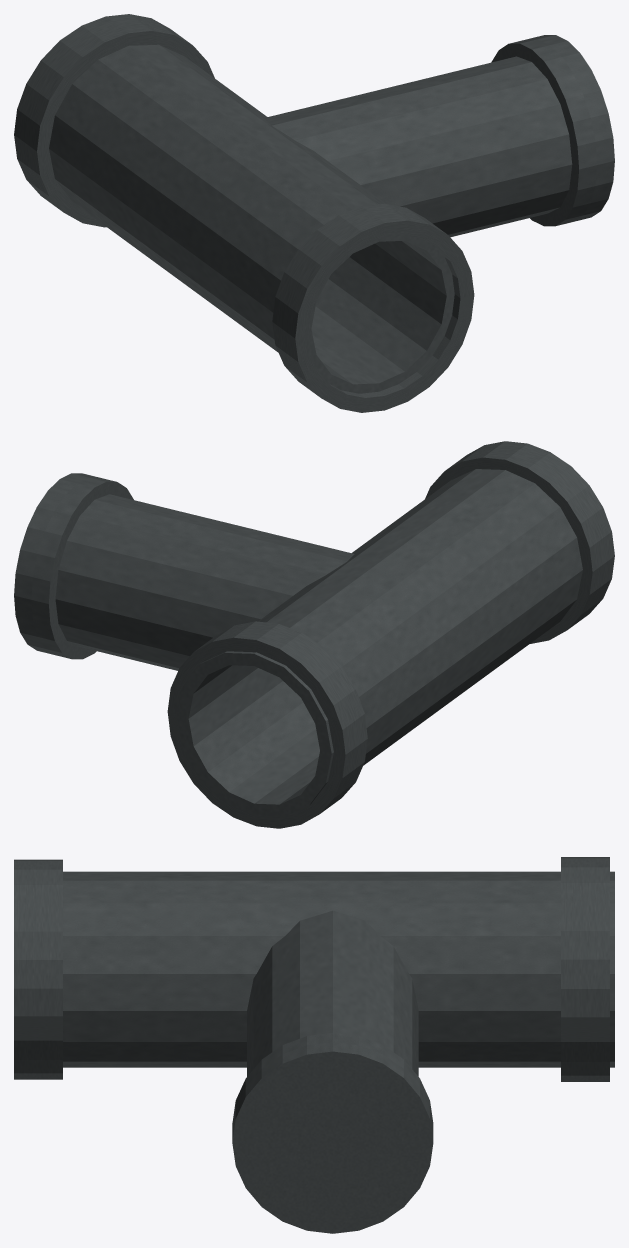
Rendered from Overflow_Tee_75mm.glb.
3 renders of one model, top to bottom at view 1: azimuth 30°, elevation 25°; view 2: azimuth 150°, elevation 25°; view 3: azimuth 270°, elevation 25°, orthographic. The views are drawn at different scales.
Parts seen in each view (by area): view 1: Main_Vertical_Tee, Lateral_Overflow_Branch, Upper_Tee_Collar, Lower_Tee_Collar, Overflow_Hose_Retaining_Bead; view 2: Main_Vertical_Tee, Lateral_Overflow_Branch, Lower_Tee_Collar, Upper_Tee_Collar, Overflow_Hose_Retaining_Bead; view 3: Main_Vertical_Tee, Overflow_Hose_Retaining_Bead, Lateral_Overflow_Branch, Lower_Tee_Collar, Upper_Tee_Collar.
Part boxes in pixels (x1,y1,x2,y2): Main_Vertical_Tee: (49,44,454,393); Lateral_Overflow_Branch: (264,56,572,237); Upper_Tee_Collar: (272,203,474,412); Lower_Tee_Collar: (14,14,214,227); Overflow_Hose_Retaining_Bead: (491,35,614,226); Main_Vertical_Tee: (177,469,582,816); Lateral_Overflow_Branch: (55,494,354,670); Lower_Tee_Collar: (167,621,367,828); Upper_Tee_Collar: (425,441,614,643); Overflow_Hose_Retaining_Bead: (14,473,133,659); Main_Vertical_Tee: (63,871,614,1067); Overflow_Hose_Retaining_Bead: (232,1033,433,1233); Lateral_Overflow_Branch: (247,910,418,1076); Lower_Tee_Collar: (561,857,609,1081); Upper_Tee_Collar: (14,859,62,1079).
Bounding box in the file's own units: 0.213 × 0.092 × 0.245.
Materials: 1 (1 with a texture image).
